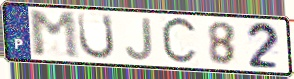2: (246, 20, 283, 72)
8: (206, 20, 238, 67)
C: (159, 14, 200, 68)
J: (124, 17, 155, 62)
M: (27, 10, 82, 61)
U: (76, 12, 117, 62)
